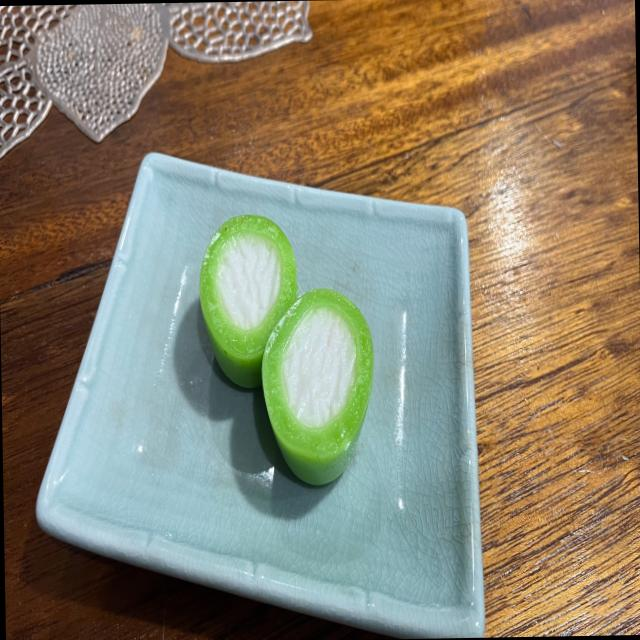nona-manis: (262, 289, 373, 485), (199, 214, 297, 388)
